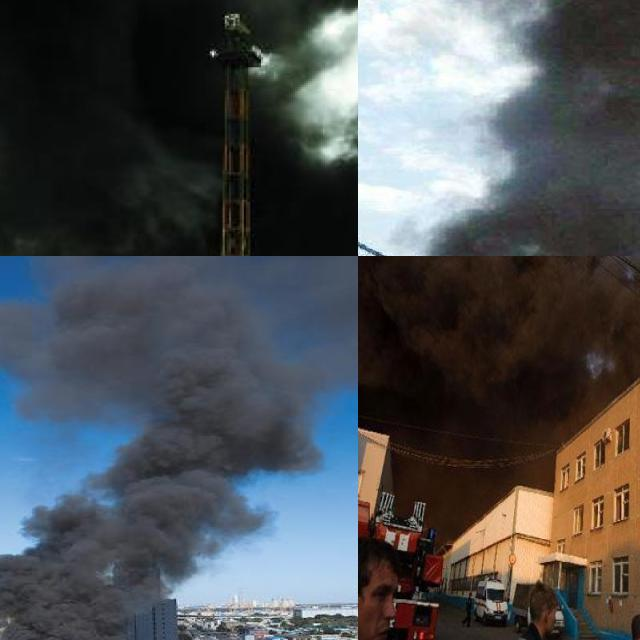smoke: (0, 256, 358, 640), (0, 0, 358, 256), (423, 0, 640, 256), (383, 256, 480, 403), (435, 256, 509, 405), (361, 256, 439, 396), (520, 256, 597, 395), (609, 256, 640, 378)
